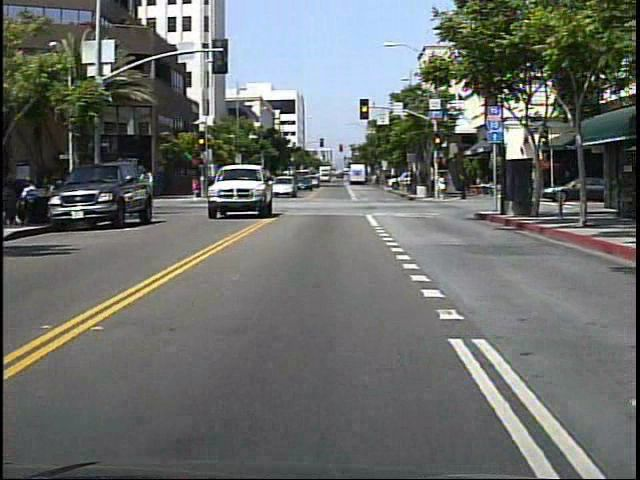person: (138, 165, 159, 205), (456, 172, 470, 204), (192, 174, 204, 199), (438, 175, 448, 199)
